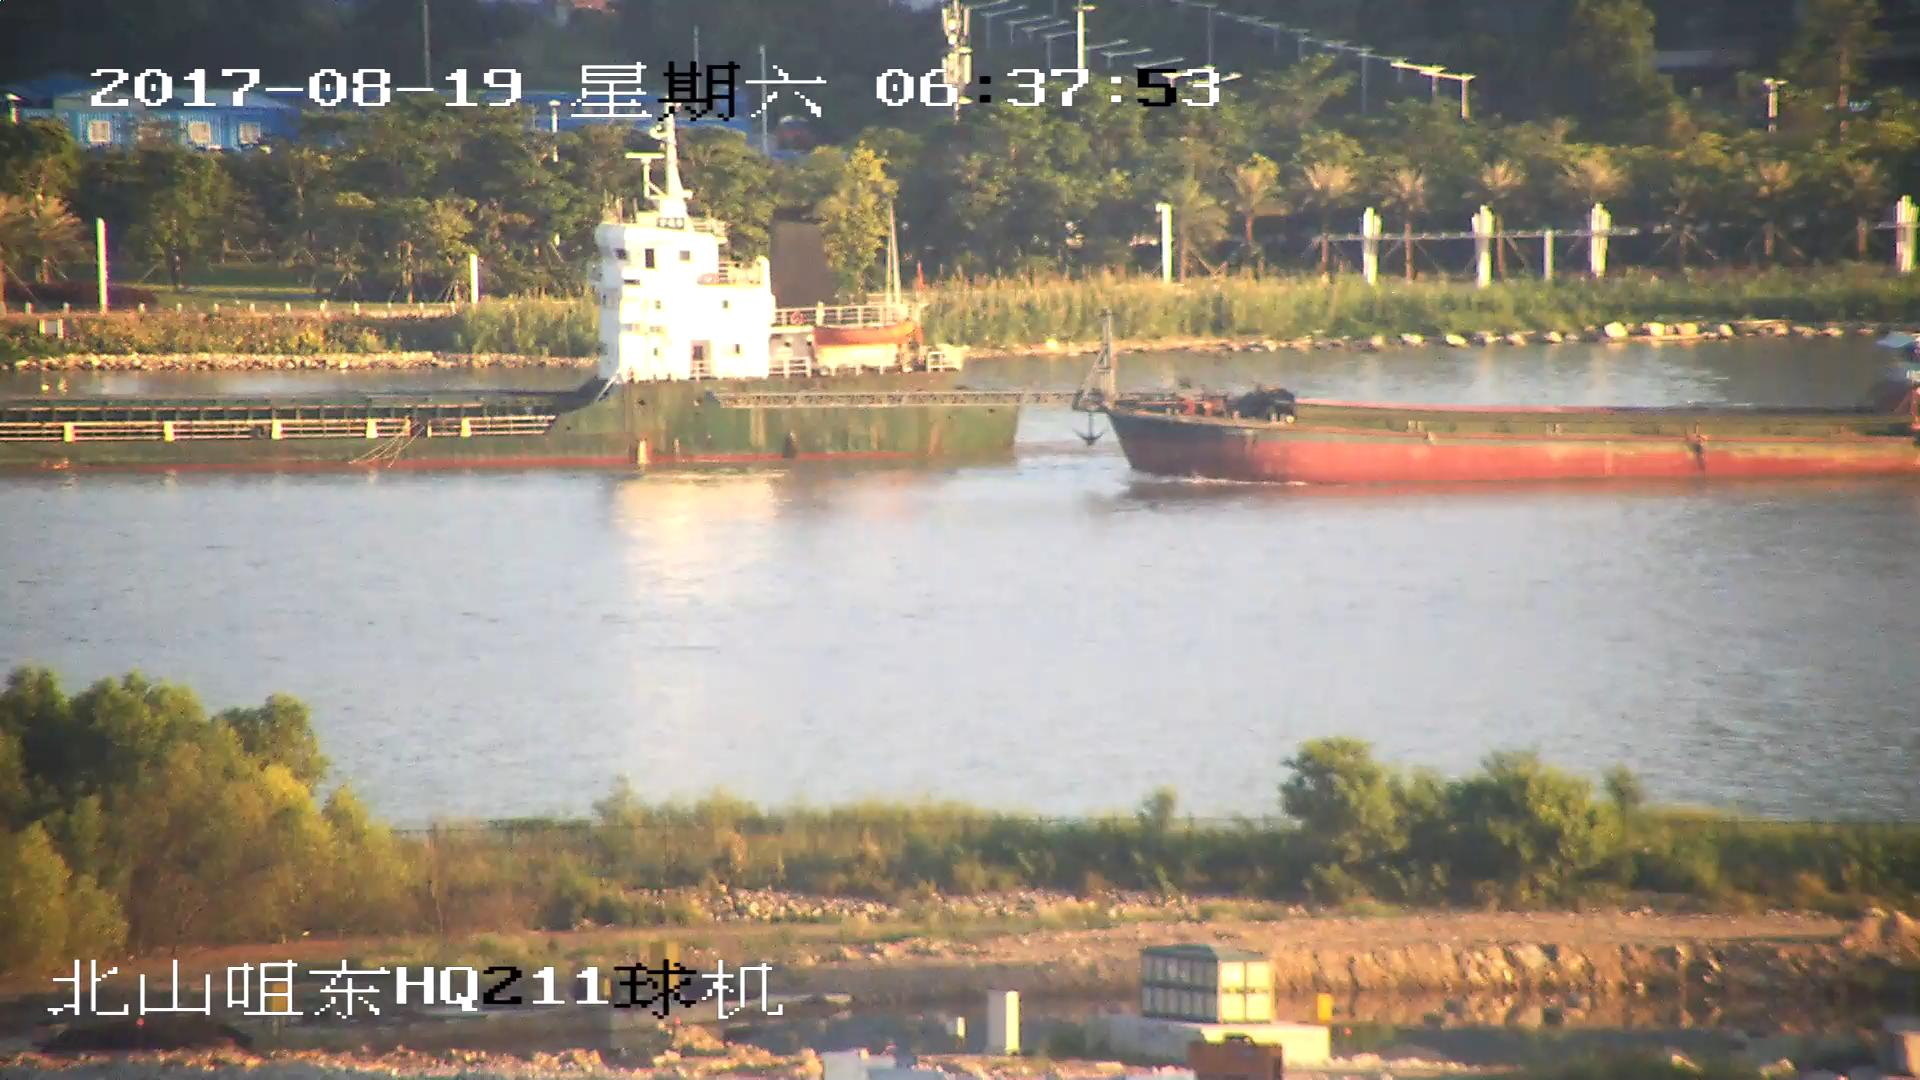bulk cargo carrier: (1041, 335, 1920, 482)
general cargo ship: (1, 154, 1021, 462)
